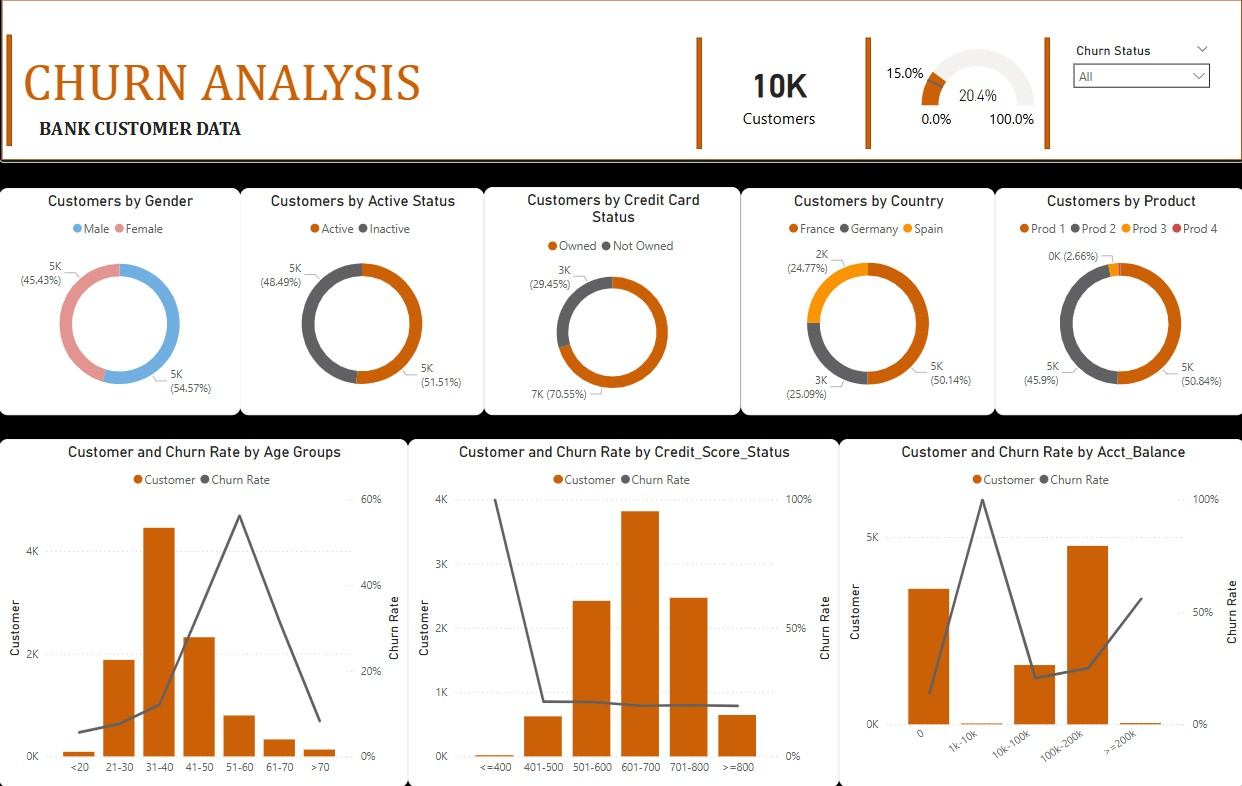

What the dashboard file says about the page in this screenshot:
{"tool":"powerbi","page":{"name":"Page 1","canvas":[1400,900],"ordinal":0},"visuals":[{"type":"shape","box":[0,13.5,1399.4,186.3],"z":0},{"type":"card","fields":{"Values":["_measures.Customer"]},"box":[792,65.4,165.7,112.5],"z":1000},{"type":"donutChart","title":"Customers by Gender","fields":{"Category":["Bank Customer.Gender"],"Y":["_measures.Customer"]},"box":[0,228,270.6,255.4],"z":2000},{"type":"donutChart","title":"Customers by Active Status","fields":{"Y":["_measures.Customer"],"Category":["Bank Customer.Active"]},"box":[270.4,227.8,273.8,254.7],"z":3000},{"type":"donutChart","title":"Customers by Credit Card Status","fields":{"Y":["_measures.Customer"],"Category":["Bank Customer.Credit Card"]},"box":[544.3,226.7,288.4,255.9],"z":4000},{"type":"donutChart","title":"Customers by Country","fields":{"Y":["_measures.Customer"],"Category":["Bank Customer.Country"]},"box":[832.7,227.8,285,254.7],"z":5000},{"type":"donutChart","title":"Customers by Product","fields":{"Y":["_measures.Customer"],"Category":["Bank Customer.Products"]},"box":[1117.7,227.8,281.7,254.7],"z":6000},{"type":"lineClusteredColumnComboChart","fields":{"Y":["_measures.Customer"],"Y2":["_measures.Churn Rate"],"Category":["Age Groups.Age Groups"]},"box":[0,509.5,459,390.5],"z":7000},{"type":"lineClusteredColumnComboChart","fields":{"Y":["_measures.Customer"],"Y2":["_measures.Churn Rate"],"Category":["Credit Score Group.Credit_Score_Status"]},"box":[459,509.5,483.7,390.5],"z":8000},{"type":"lineClusteredColumnComboChart","fields":{"Y":["_measures.Customer"],"Y2":["_measures.Churn Rate"],"Category":["Acct Balance Group.Acct_Balance"]},"box":[942.6,509.5,456.7,390.5],"z":9000},{"type":"slicer","fields":{"Values":["Bank Customer.Churn"]},"box":[1193.3,57.8,179.4,121.6],"z":10000},{"type":"gauge","fields":{"Y":["_measures.Churn Rate"],"MaxValue":["Max(Bank Customer.% Max Churn Rate)"],"MinValue":["Min(Bank Customer.% Min Churn Rate)"],"TargetValue":["Max(Bank Customer.% Target Churn Rate)"]},"box":[982,62.3,188.5,112.5],"z":11000},{"type":"textbox","box":[18.2,65.4,526,97.3],"z":12000},{"type":"textbox","box":[36.5,139.8,299.5,44.1],"z":13000},{"type":"shape","box":[779.8,56.2,12.2,130.7],"z":14000},{"type":"shape","box":[969.8,56.2,12.2,130.7],"z":14001},{"type":"shape","box":[1170.5,56.2,12.2,130.7],"z":14002},{"type":"shape","box":[6.1,53.2,12.2,130.7],"z":14003}]}

Visuals, with their boxes in screenshot pixels (x1, y1, x2, y2), scaled from the page's 1400x900 canvas onto the 1242x786 screenshot:
shape: bbox=[0, 12, 1241, 174]
card - _measures.Customer: bbox=[703, 57, 850, 155]
"Customers by Gender" donutChart: bbox=[0, 199, 240, 422]
"Customers by Active Status" donutChart: bbox=[240, 199, 483, 421]
"Customers by Credit Card Status" donutChart: bbox=[483, 198, 739, 421]
"Customers by Country" donutChart: bbox=[739, 199, 992, 421]
"Customers by Product" donutChart: bbox=[992, 199, 1241, 421]
lineClusteredColumnComboChart - _measures.Customer x _measures.Churn Rate: bbox=[0, 445, 407, 785]
lineClusteredColumnComboChart - _measures.Customer x _measures.Churn Rate: bbox=[407, 445, 836, 785]
lineClusteredColumnComboChart - _measures.Customer x _measures.Churn Rate: bbox=[836, 445, 1241, 785]
slicer - Bank Customer.Churn: bbox=[1059, 50, 1218, 157]
gauge - _measures.Churn Rate x Max(Bank Customer.% Max Churn Rate): bbox=[871, 54, 1038, 153]
textbox: bbox=[16, 57, 483, 142]
textbox: bbox=[32, 122, 298, 161]
shape: bbox=[692, 49, 703, 163]
shape: bbox=[860, 49, 871, 163]
shape: bbox=[1038, 49, 1049, 163]
shape: bbox=[5, 46, 16, 161]
